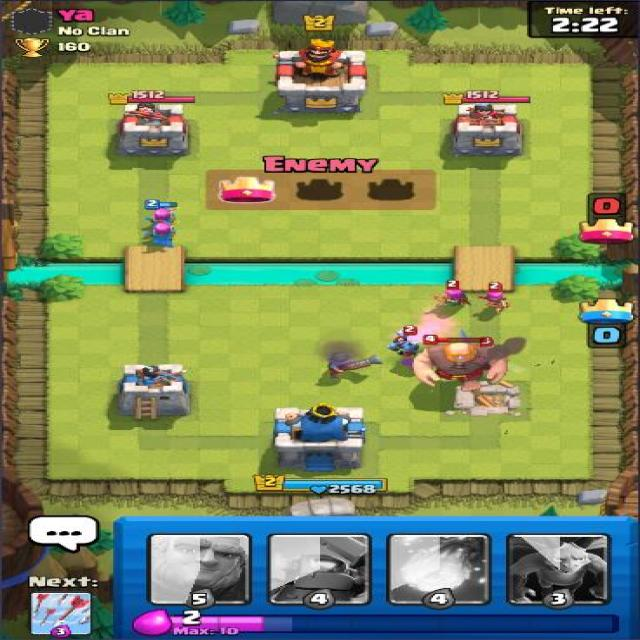Enemy-Archer: (424, 276, 476, 312), (477, 282, 513, 315)
Enemy-Giant: (410, 332, 513, 390)
Enemy-Knight: (473, 335, 515, 372)
Enemy-Minion: (381, 323, 431, 359)
Player-Archer: (141, 196, 189, 233), (144, 223, 184, 250)
Player-Musketeer: (320, 344, 386, 383)
